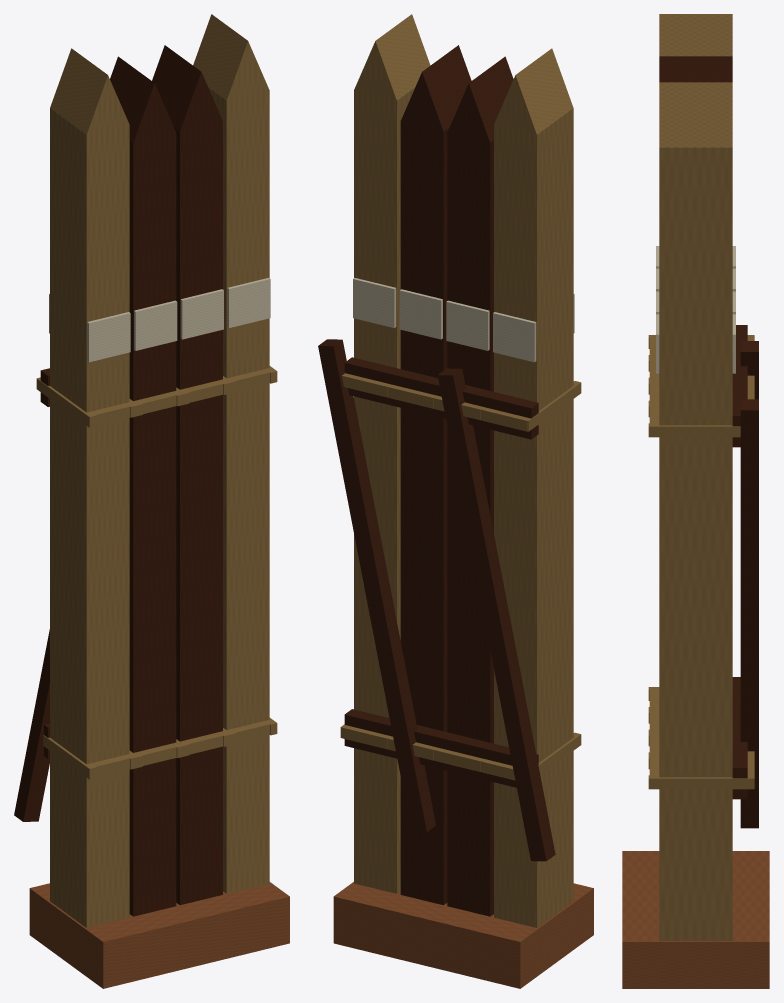
File: Berber_Palisade_Age2_gapfill_1m.fbx
3 renders of one model, left to right at view 1: azimuth 30°, elevation 25°; view 2: azimuth 150°, elevation 25°; view 3: azimuth 270°, elevation 25°, orthographic.
Parts seen in each view (by area): view 1: palm_split_post.017, palm_split_post.023, palm_split_post.020, palm_split_post.022, earth_seat.003, neutral_owner_band.003, front_lashing.003, lashing_side.003, back_diagonal_brace.003; view 2: palm_split_post.017, palm_split_post.022, palm_split_post.023, palm_split_post.020, back_diagonal_brace.003, earth_seat.003, continuous_rear_tie.003, neutral_owner_band.003, back_lashing.003, lashing_side.003; view 3: palm_split_post.023, earth_seat.003, back_diagonal_brace.003, lashing_side.003, palm_split_post.017, continuous_rear_tie.003, palm_split_post.020, front_lashing.003, neutral_owner_band.003, back_lashing.003.
Part boxes in pixels (<box>): palm_split_post.017: <box>50,48,129,927</box>; palm_split_post.023: <box>193,14,269,893</box>; palm_split_post.020: <box>110,56,176,916</box>; palm_split_post.022: <box>152,45,222,905</box>; earth_seat.003: <box>29,882,289,988</box>; neutral_owner_band.003: <box>49,278,270,362</box>; front_lashing.003: <box>88,369,269,777</box>; lashing_side.003: <box>36,366,277,779</box>; back_diagonal_brace.003: <box>14,629,49,821</box>; palm_split_post.017: <box>494,48,573,927</box>; palm_split_post.022: <box>400,45,471,905</box>; palm_split_post.023: <box>354,14,430,893</box>; palm_split_post.020: <box>447,56,513,916</box>; back_diagonal_brace.003: <box>318,339,555,861</box>; earth_seat.003: <box>333,882,593,988</box>; continuous_rear_tie.003: <box>344,357,538,787</box>; neutral_owner_band.003: <box>353,278,574,362</box>; back_lashing.003: <box>341,373,529,780</box>; lashing_side.003: <box>340,381,581,774</box>; palm_split_post.023: <box>659,82,732,940</box>; earth_seat.003: <box>622,851,769,988</box>; back_diagonal_brace.003: <box>740,341,758,828</box>; lashing_side.003: <box>648,335,754,789</box>; palm_split_post.017: <box>659,14,732,56</box>; continuous_rear_tie.003: <box>732,325,747,799</box>; palm_split_post.020: <box>659,56,732,78</box>; front_lashing.003: <box>649,335,659,775</box>; neutral_owner_band.003: <box>656,246,735,373</box>; back_lashing.003: <box>747,335,754,788</box>.
Bounding box in the file's own units: 122 × 458 × 68.29.
Materials: 4 (4 with a texture image).
